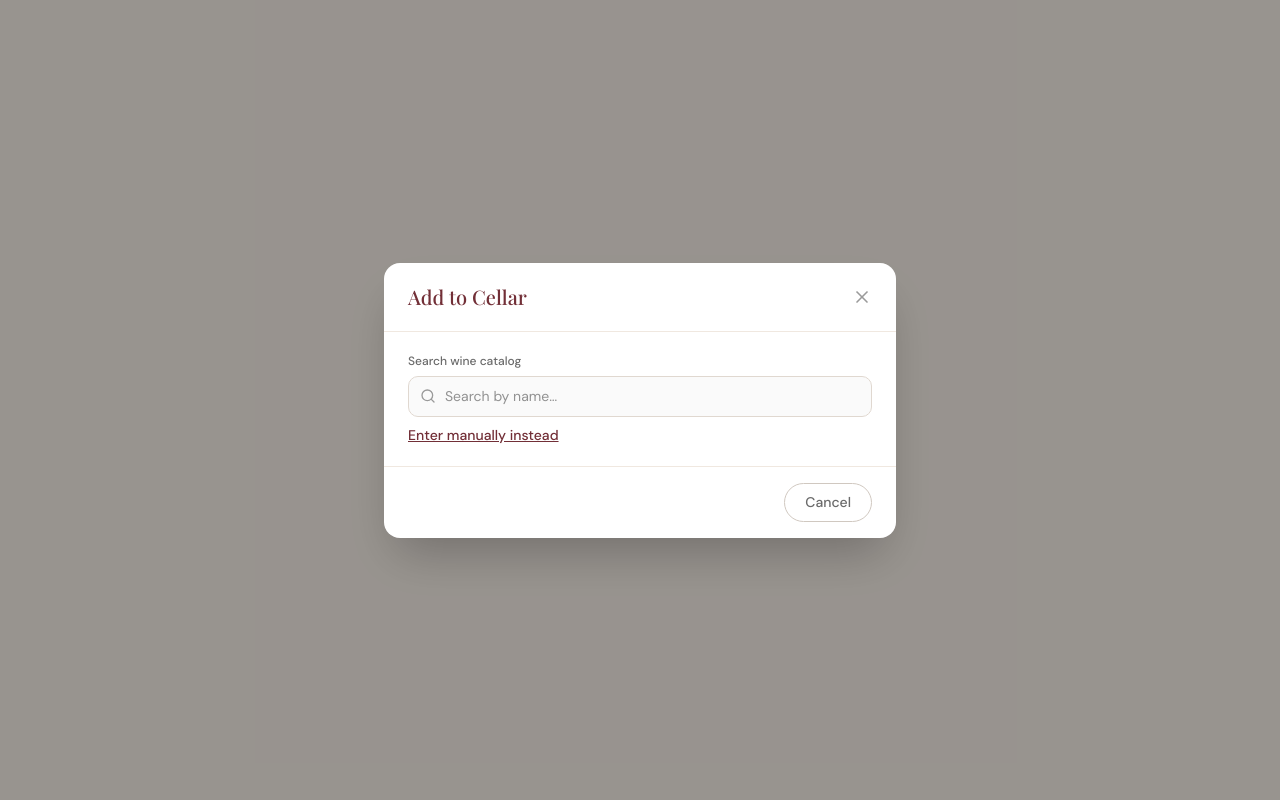
Test: AddCellarEntryModal — add mode › reveals all form fields after clicking 'Enter manually instead'
Step 1. Click the button "Enter manually instead" → (483,434), box [408,424,558,444]
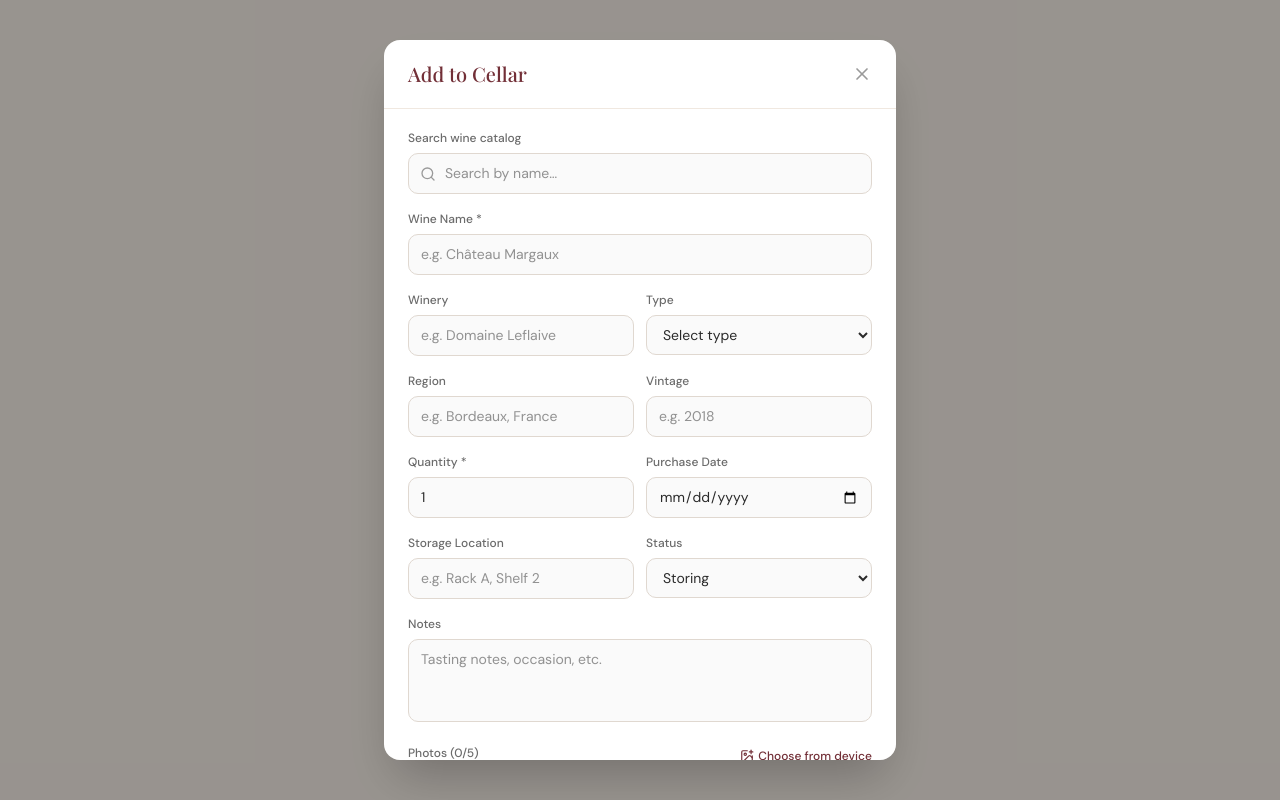
Check: the field with placeholder "e.g. Château Margaux" is shown, box [408,234,872,275]
Check: the field with placeholder "e.g. Domaine Leflaive" is shown, box [408,315,634,356]
